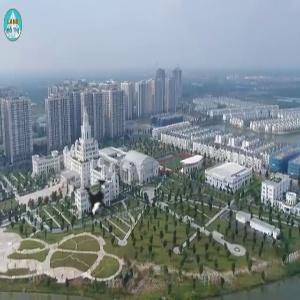drone: (49, 152, 141, 244)
